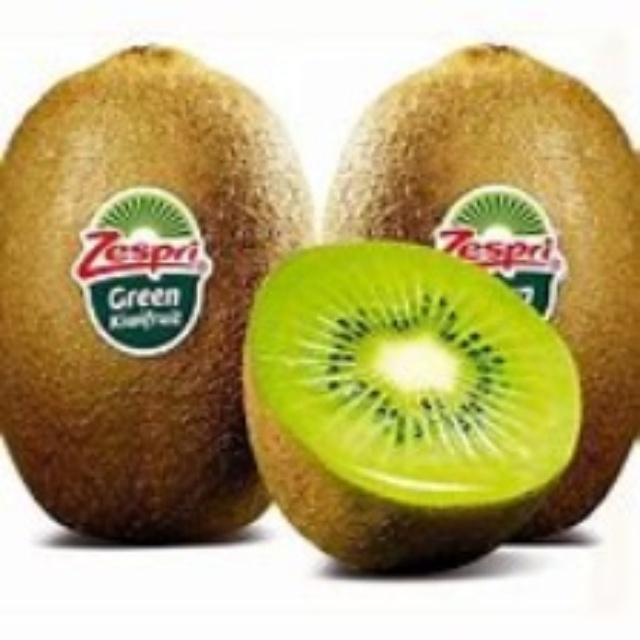kiwi: (318, 44, 639, 547), (2, 36, 309, 548), (238, 239, 570, 582)
